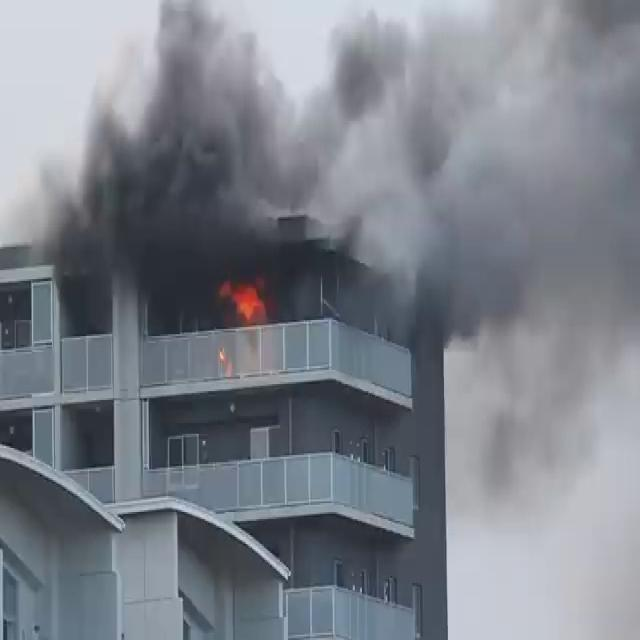Smoke: (30, 0, 639, 348)
